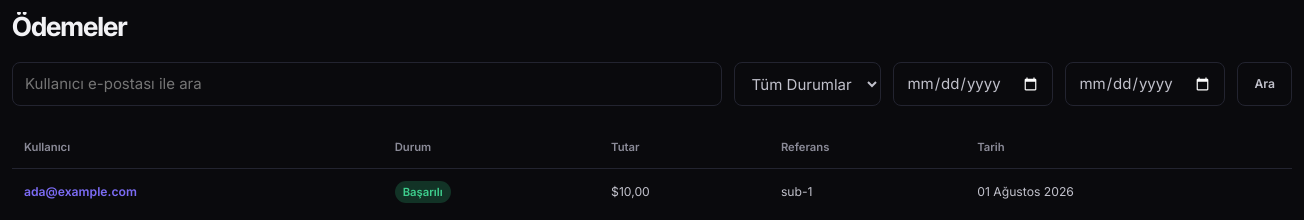
Scenario: AdminPaymentsPage › sends the status filter to the backend
Expected: the link "ada@example.com" is shown, [24, 184, 137, 199]
Select "Başarısız" in the dropdown named "Duruma göre filtrele": [808, 84] box [734, 62, 881, 106]
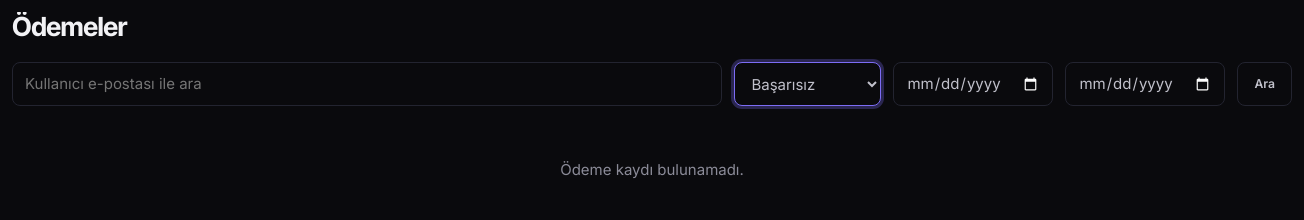
Now the text "Ödeme kaydı bulunamadı." is shown, box [560, 160, 744, 179]
